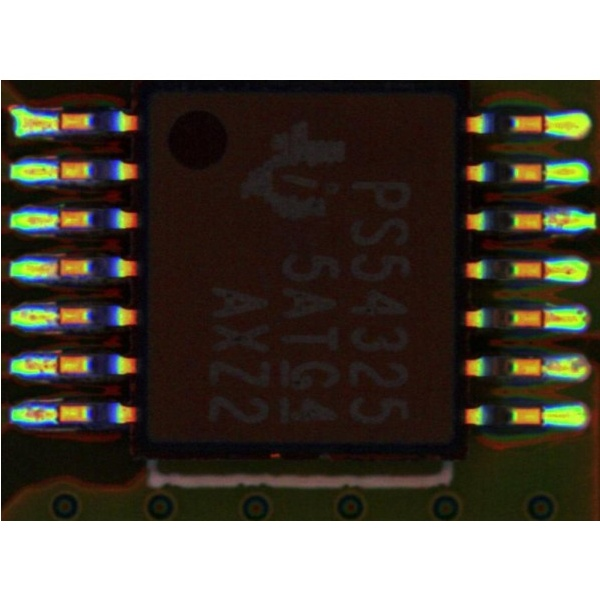Bad_podu: (528, 118, 561, 131), (529, 312, 562, 324), (530, 262, 558, 275), (43, 262, 68, 275), (43, 359, 70, 371)
